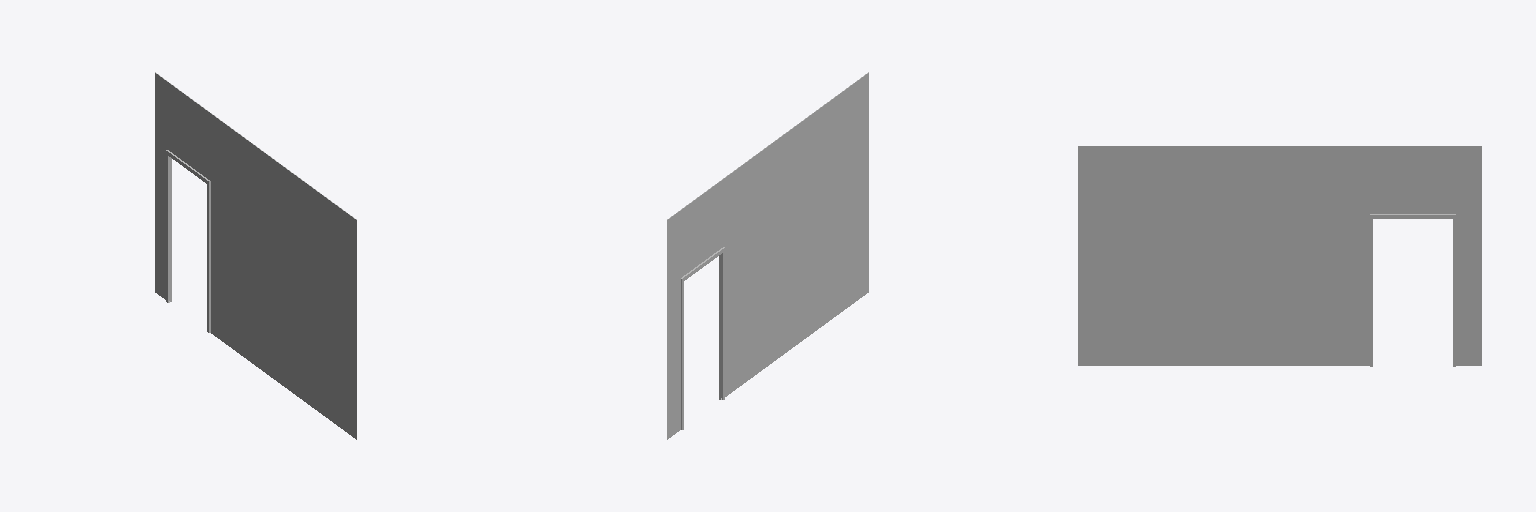
File: Walll_4.obj
The picture shows the model from 3 angles: view 1: azimuth 30°, elevation 25°; view 2: azimuth 150°, elevation 25°; view 3: azimuth 270°, elevation 25°; orthographic projection.
Visible parts, largest first — view 1: Walll_4_Cube.004; view 2: Walll_4_Cube.004; view 3: Walll_4_Cube.004.
Boxes of the visible parts, <box> form: Walll_4_Cube.004: <box>155,72,356,439</box>; Walll_4_Cube.004: <box>667,72,868,439</box>; Walll_4_Cube.004: <box>1078,146,1481,366</box>.
Bounding box in the file's own units: 12 × 600 × 1000.